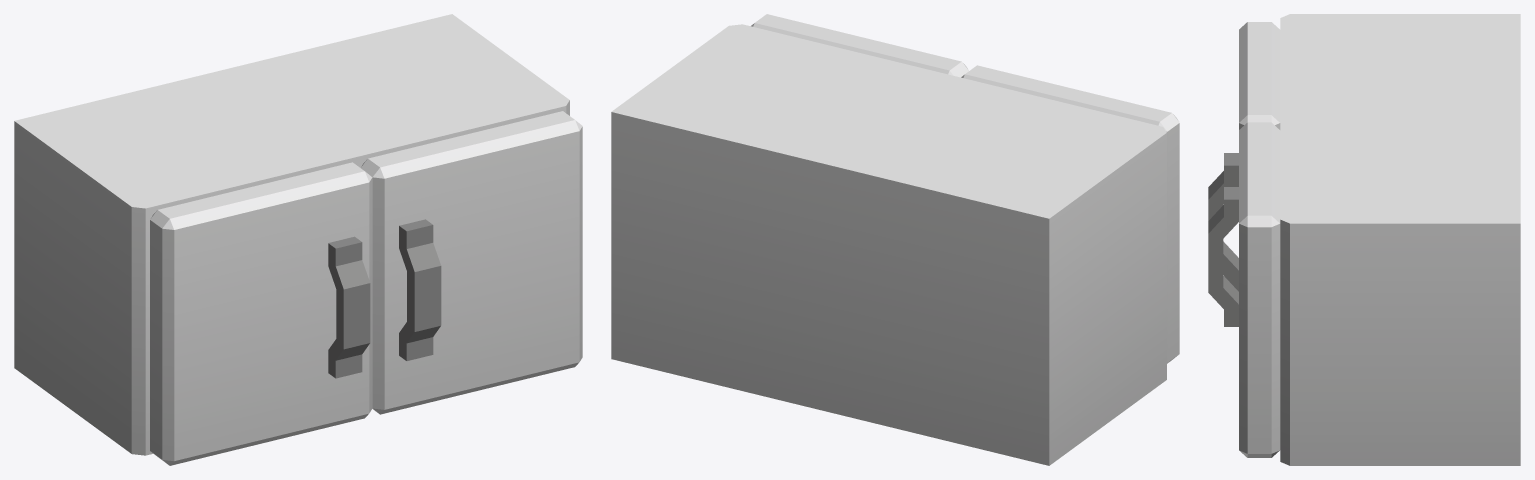
The model's file is Cabinet_01_S_C02.fbx.
3 renders of one model, left to right at view 1: azimuth 30°, elevation 25°; view 2: azimuth 150°, elevation 25°; view 3: azimuth 270°, elevation 25°, orthographic.
Parts seen in each view (by area): view 1: Cabinet_01_S_C02, Cabinet_01_S_C02_Door_R, Cabinet_01_S_C02_Door_L; view 2: Cabinet_01_S_C02, Cabinet_01_S_C02_Door_R, Cabinet_01_S_C02_Door_L; view 3: Cabinet_01_S_C02, Cabinet_01_S_C02_Door_L, Cabinet_01_S_C02_Door_R.
Part boxes in pixels (x1,y1,x2,y2): Cabinet_01_S_C02: (14,14,569,455); Cabinet_01_S_C02_Door_R: (150,162,372,465); Cabinet_01_S_C02_Door_L: (361,111,582,414); Cabinet_01_S_C02: (611,24,1166,465); Cabinet_01_S_C02_Door_R: (961,65,1179,363); Cabinet_01_S_C02_Door_L: (751,14,968,77); Cabinet_01_S_C02: (1280,14,1520,465); Cabinet_01_S_C02_Door_L: (1208,122,1280,457); Cabinet_01_S_C02_Door_R: (1208,22,1280,291).
Bounding box in the file's own units: 100 × 53.91 × 62.96.
